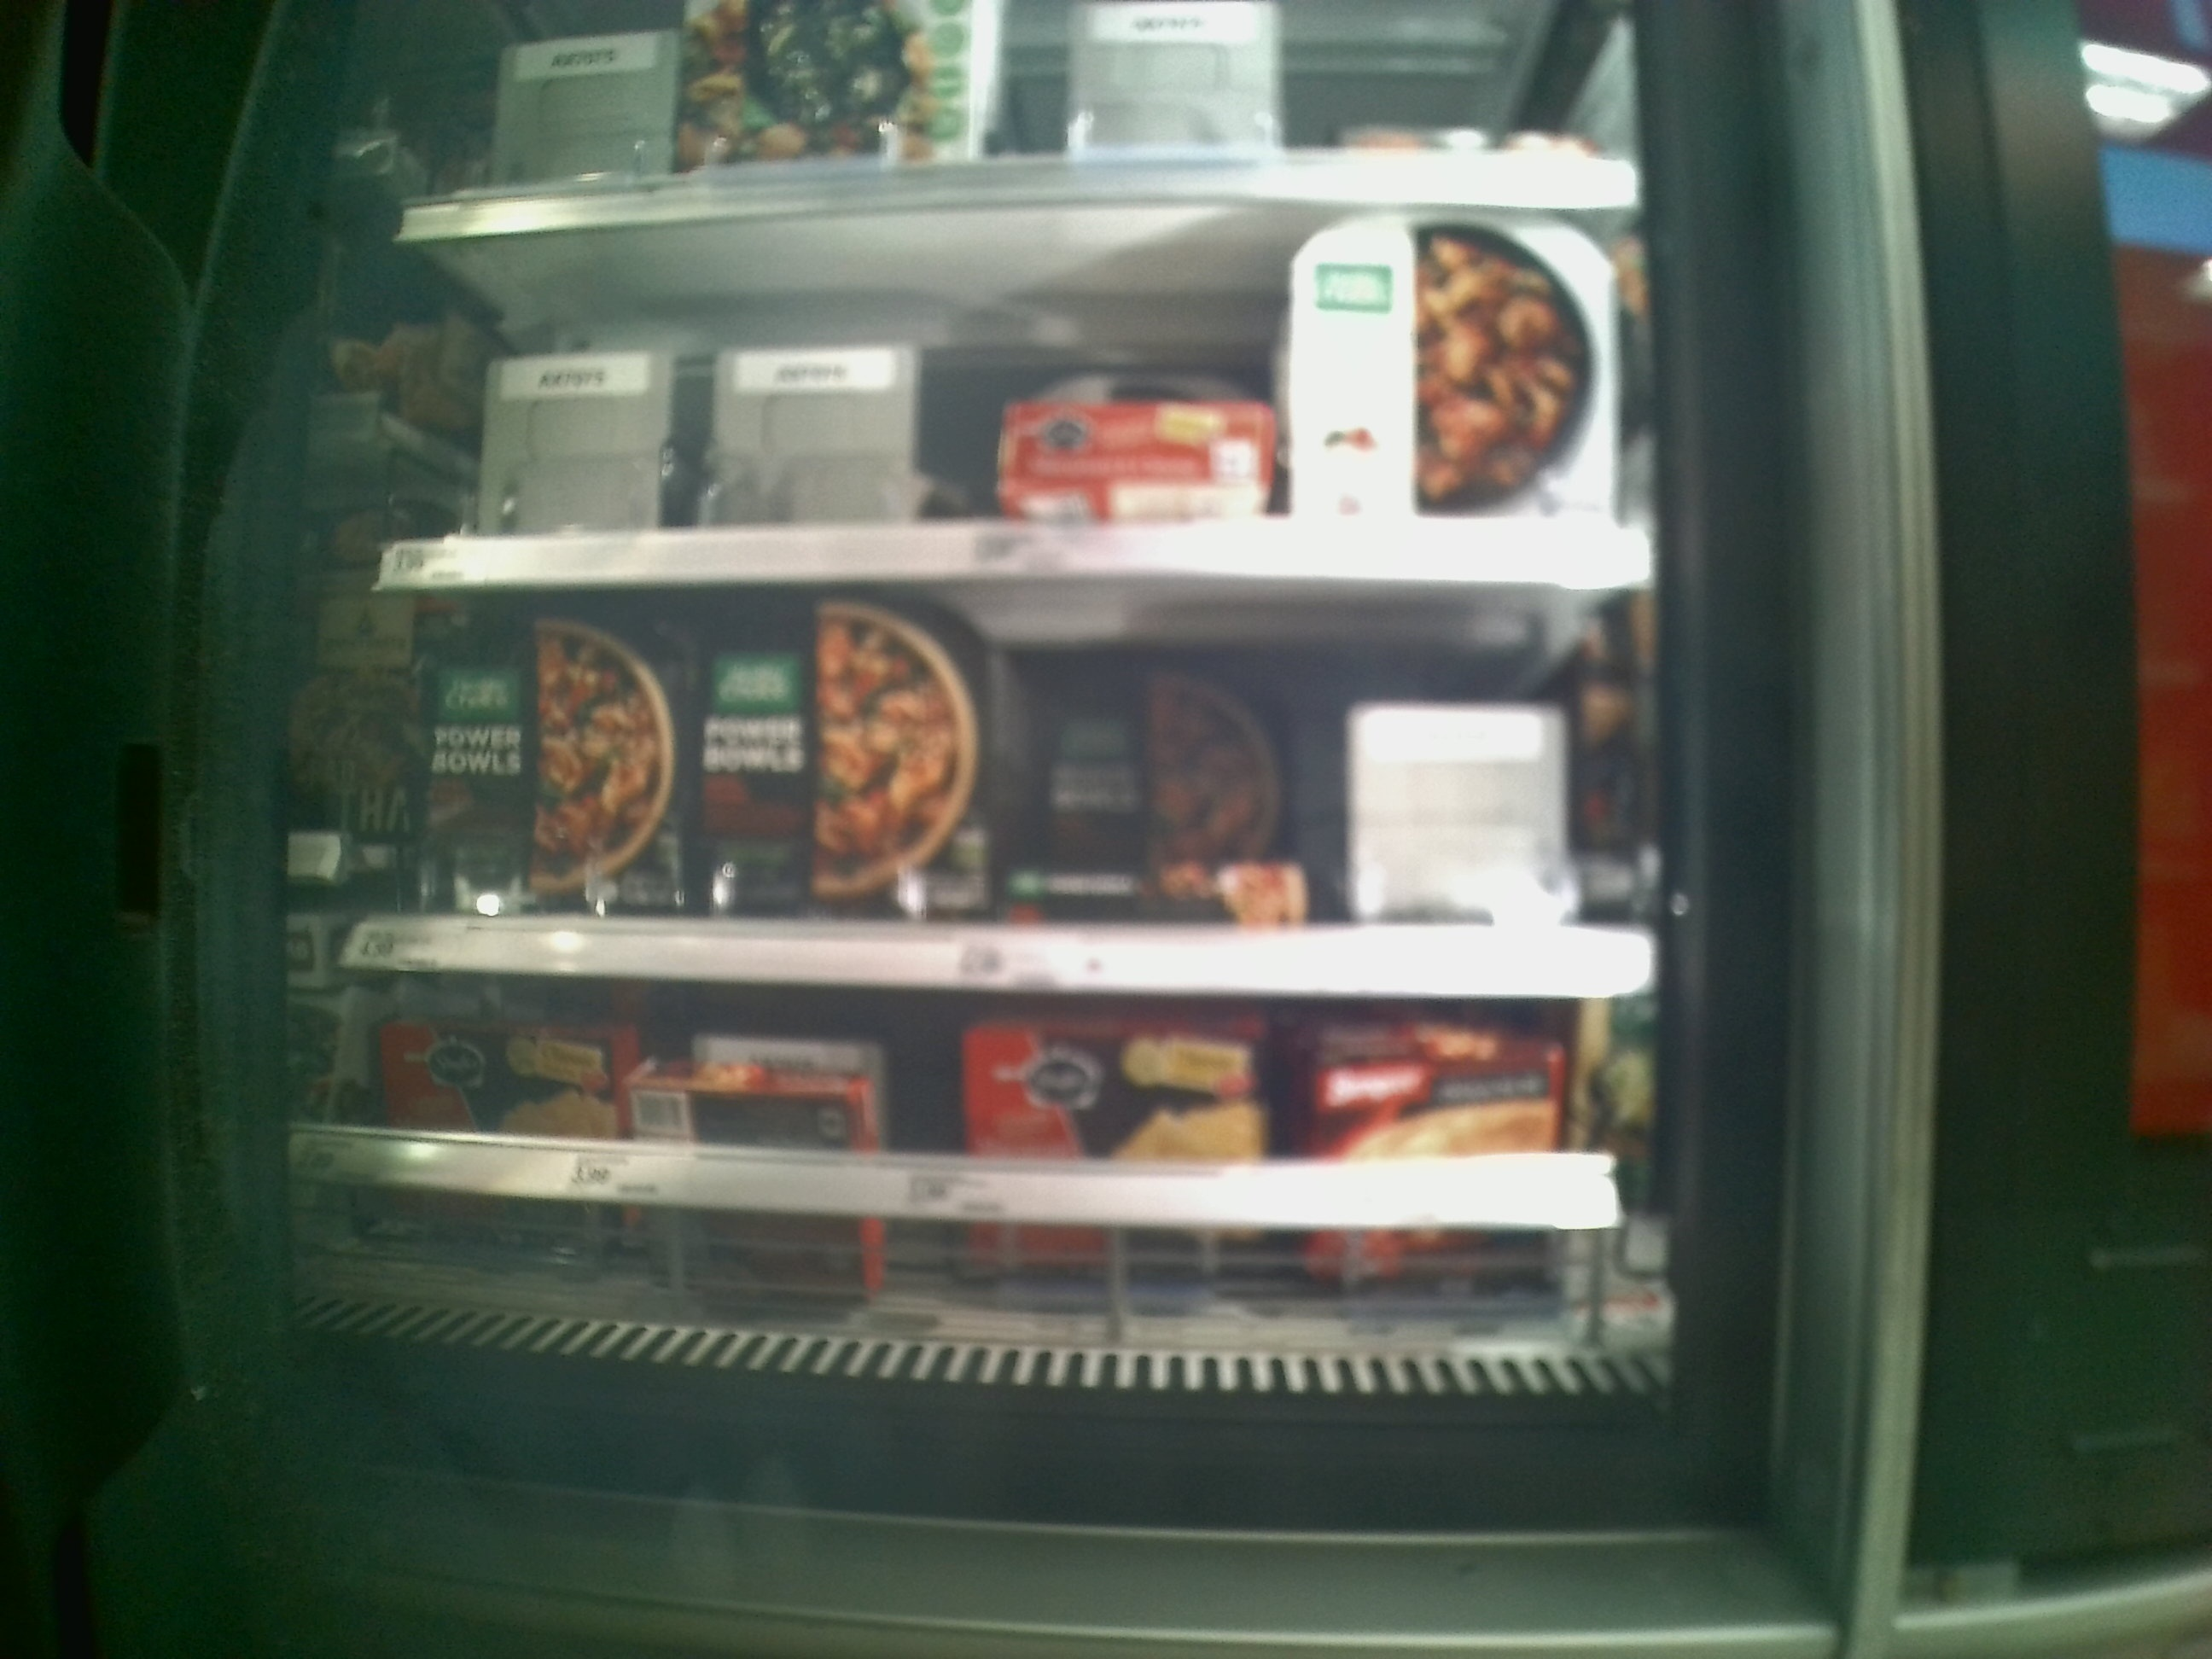shelf: (371, 582, 1689, 995), (315, 967, 1674, 1364), (383, 192, 1651, 580)
